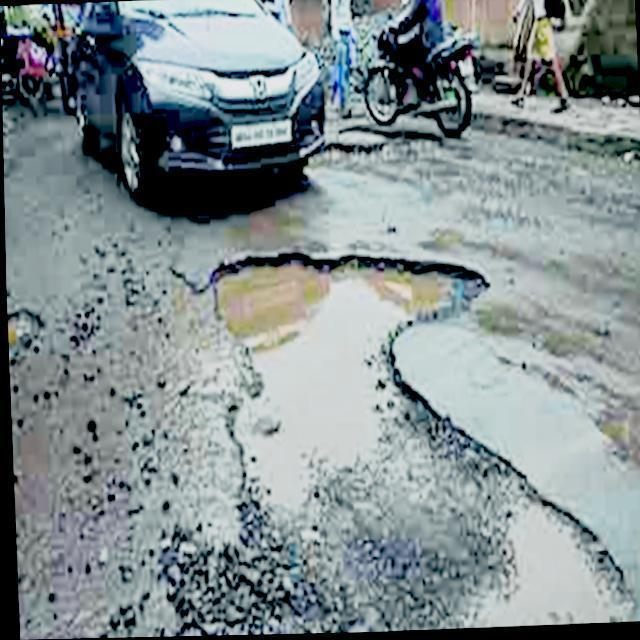Pothole: (172, 250, 633, 637), (5, 311, 42, 360)
